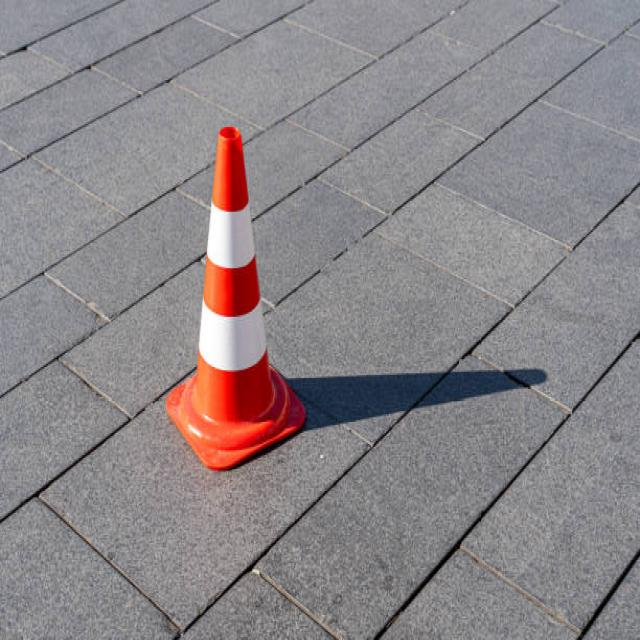Traffic Cone: (150, 96, 316, 490)
